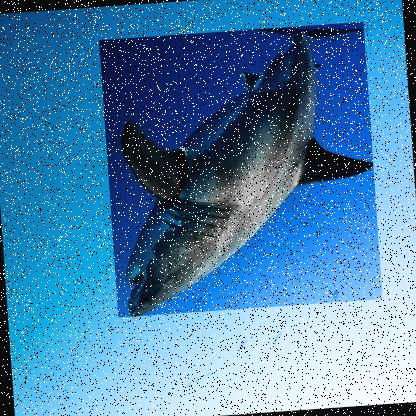white-shark: (96, 21, 382, 318)
